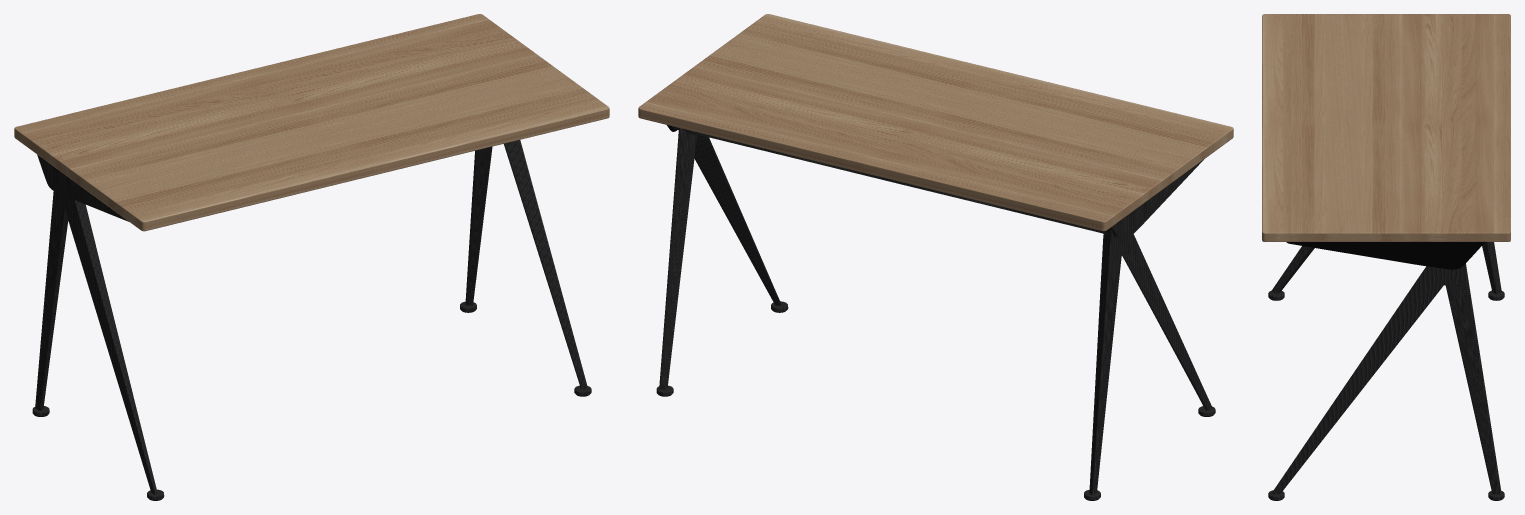
Rendered from ptv.obj.
The picture shows the model from 3 angles, left to right: view 1: azimuth 30°, elevation 25°; view 2: azimuth 150°, elevation 25°; view 3: azimuth 270°, elevation 25°; orthographic projection. The views are drawn at different scales.
Visible parts, largest first — view 1: Vitra_Compas_Direction_mat1; view 2: Vitra_Compas_Direction_mat1; view 3: Vitra_Compas_Direction_mat1.
Part boxes in pixels (x1,y1,x2,y2): Vitra_Compas_Direction_mat1: (14, 14, 609, 500); Vitra_Compas_Direction_mat1: (638, 14, 1233, 500); Vitra_Compas_Direction_mat1: (1262, 14, 1510, 500).
Size of the model in its own units: 125 by 73 by 60.
Materials: 3 (2 with a texture image).
